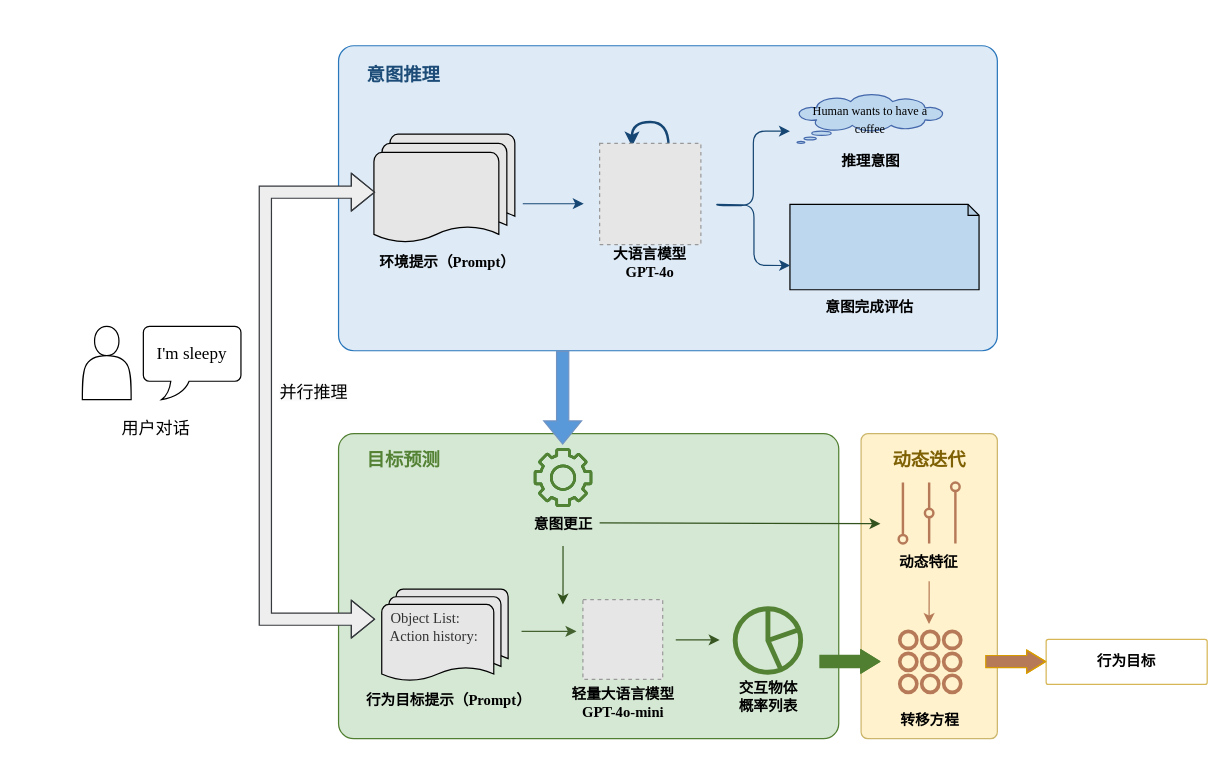
Image size: 1229x760. Some labels were removed from this diagram. Grey dashed boxes stand in for pictures. The shapes that lost their labels are listed below. From the top down, each one's centre as x and y in pixels, then its label:
At point 444,188: "User states: Env.info.: Intention history: ...".
At point 884,246: "Human wants to have coffee Yes No".
